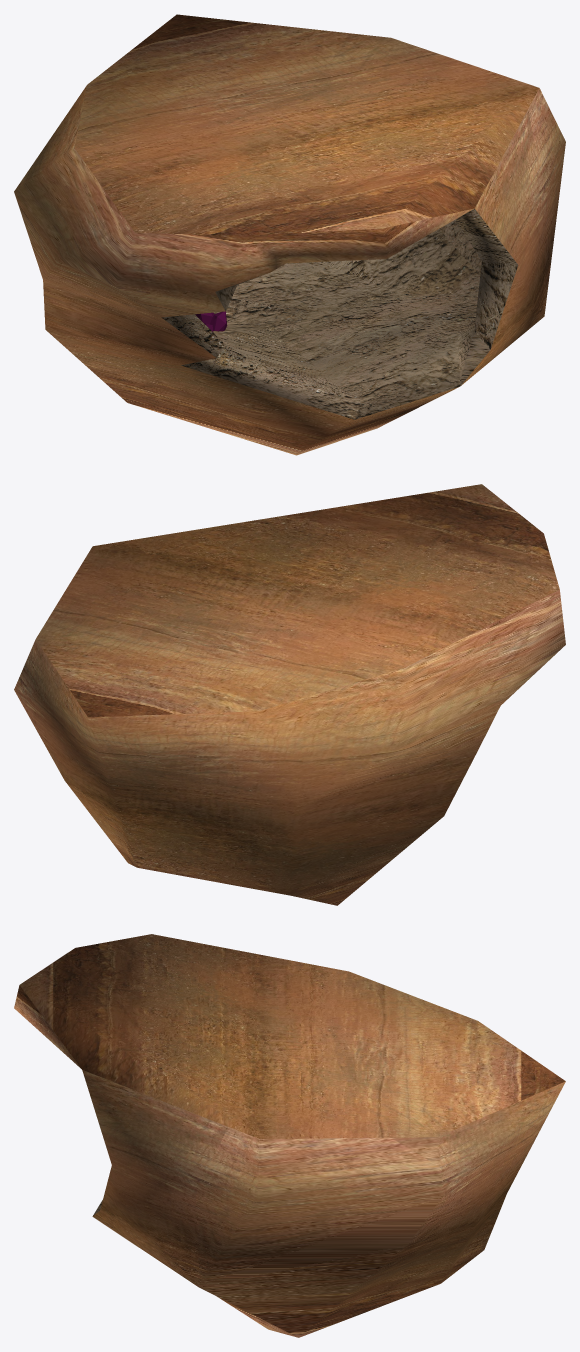
File: floatingCave-01.fbx
The picture shows the model from 3 angles, top to bottom: view 1: azimuth 30°, elevation 25°; view 2: azimuth 150°, elevation 25°; view 3: azimuth 270°, elevation 25°; orthographic projection. The views are drawn at different scales.
Visible parts, largest first — view 1: 01- floatingCave01; view 2: 01- floatingCave01; view 3: 01- floatingCave01.
Boxes of the visible parts, x1,y1,x2,y2 form: 01- floatingCave01: [14, 14, 565, 455]; 01- floatingCave01: [14, 484, 565, 905]; 01- floatingCave01: [14, 934, 565, 1337].
Bounding box in the file's own units: 10193 × 6862 × 11525.
